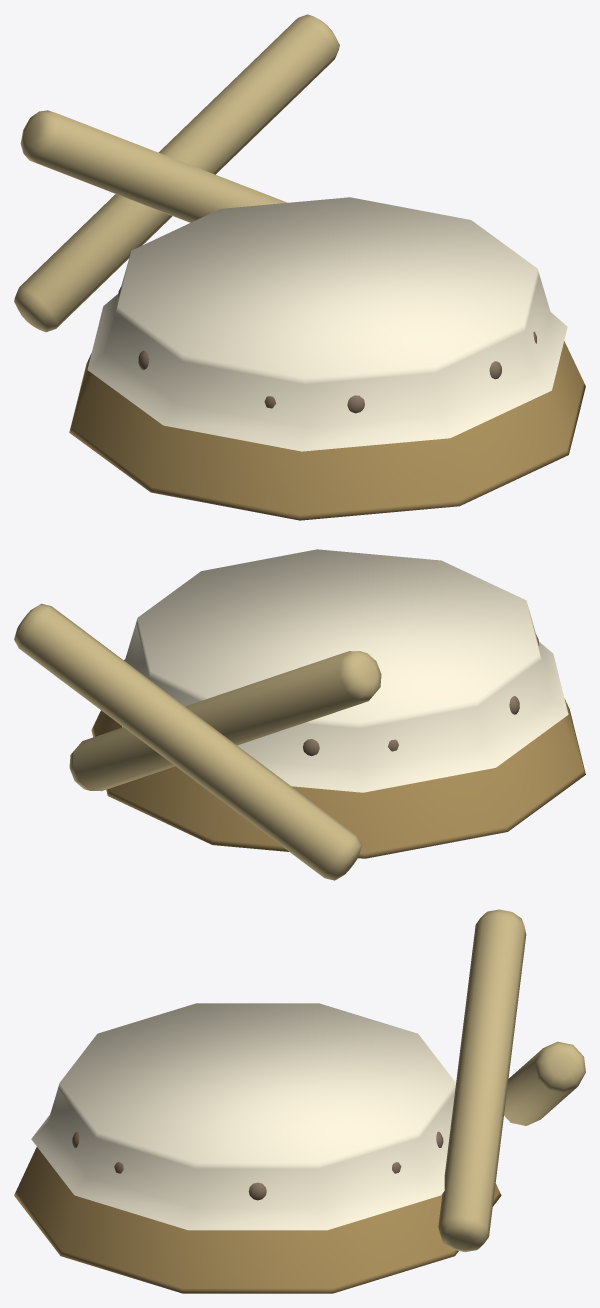
Rendered from stage.glb.
3 views of the same model, one above another, from view 1: azimuth 30°, elevation 25°; view 2: azimuth 150°, elevation 25°; view 3: azimuth 270°, elevation 25° (orthographic). The views are drawn at different scales.
Parts seen in each view (by area): view 1: 円, 円.002, 立方体; view 2: 円, 円.002, 立方体; view 3: 円, 円.002, 立方体.
Part boxes in pixels (x1=…): 円: x1=69, y1=197, x2=585, y2=520; 円.002: x1=14, y1=14, x2=339, y2=332; 立方体: x1=118, y1=286, x2=536, y2=413; 円: x1=91, y1=549, x2=585, y2=858; 円.002: x1=14, y1=603, x2=381, y2=880; 立方体: x1=303, y1=635, x2=539, y2=755; 円: x1=14, y1=1003, x2=501, y2=1293; 円.002: x1=438, y1=909, x2=585, y2=1252; 立方体: x1=72, y1=1131, x2=443, y2=1200.
Bounding box in the file's own units: 6.84 × 3.55 × 8.43.
3 materials, 3 textured.
